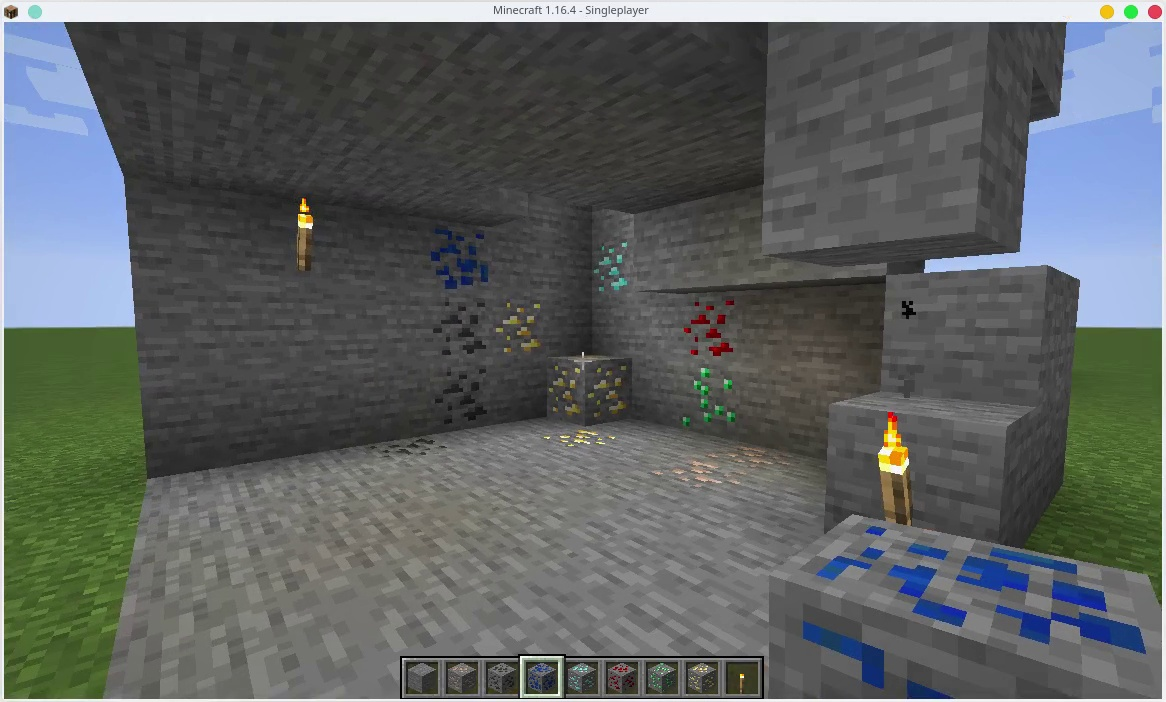gold: (547, 358, 634, 421), (487, 299, 546, 354), (546, 425, 629, 454), (686, 661, 715, 694)
